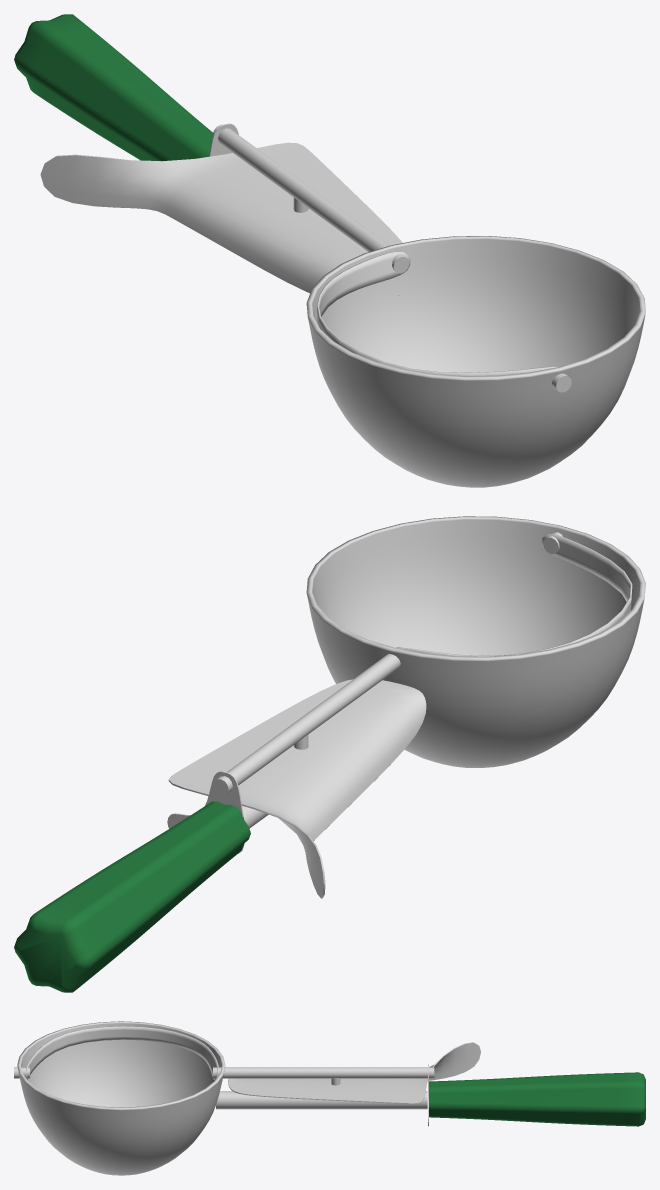
File: CUCHARA.fbx
3 views of the same model, one above another, from view 1: azimuth 30°, elevation 25°; view 2: azimuth 150°, elevation 25°; view 3: azimuth 270°, elevation 25° (orthographic). The views are drawn at different scales.
Parts seen in each view (by area): view 1: Sphere, Plane.001, BezierCurve.002, BezierCurve, Sphere.002; view 2: Sphere, Plane.001, BezierCurve.002, BezierCurve, Sphere.002, Plane; view 3: Sphere, BezierCurve.002, Plane.001, Sphere.002, BezierCurve, BezierCurve.001.
Part boxes in pixels (bbox=[...]): Sphere: bbox=[306, 236, 645, 487]; Plane.001: bbox=[40, 142, 402, 293]; BezierCurve.002: bbox=[14, 14, 213, 161]; BezierCurve: bbox=[213, 124, 409, 273]; Sphere.002: bbox=[317, 251, 557, 375]; Sphere: bbox=[306, 516, 645, 767]; Plane.001: bbox=[168, 679, 426, 898]; BezierCurve.002: bbox=[14, 801, 250, 992]; BezierCurve: bbox=[213, 647, 402, 795]; Sphere.002: bbox=[396, 534, 632, 656]; Plane: bbox=[167, 771, 244, 853]; Sphere: bbox=[17, 1021, 225, 1175]; BezierCurve.002: bbox=[429, 1072, 645, 1126]; Plane.001: bbox=[228, 1042, 480, 1103]; Sphere.002: bbox=[26, 1026, 218, 1079]; BezierCurve: bbox=[213, 1067, 434, 1078]; BezierCurve.001: bbox=[216, 1091, 427, 1109].
Size of the model in its own units: 186 by 100 by 565.
